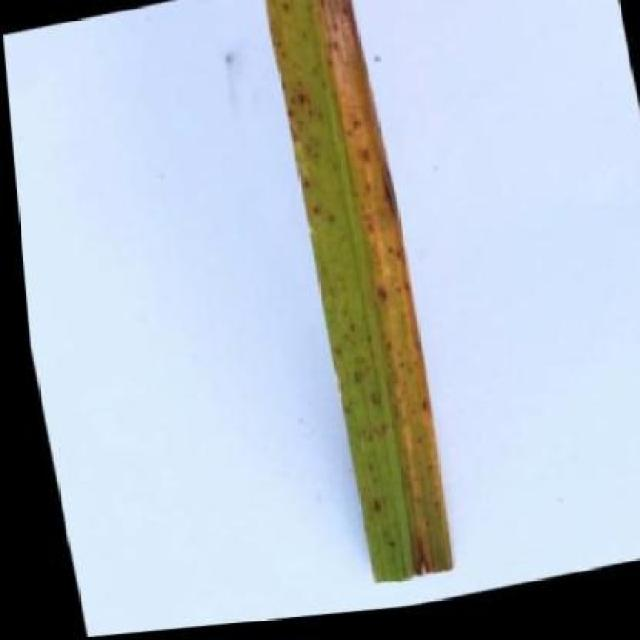Leaf_Blast: (367, 488, 393, 521), (383, 526, 402, 551)
Rice False Smut: (260, 0, 468, 602)
